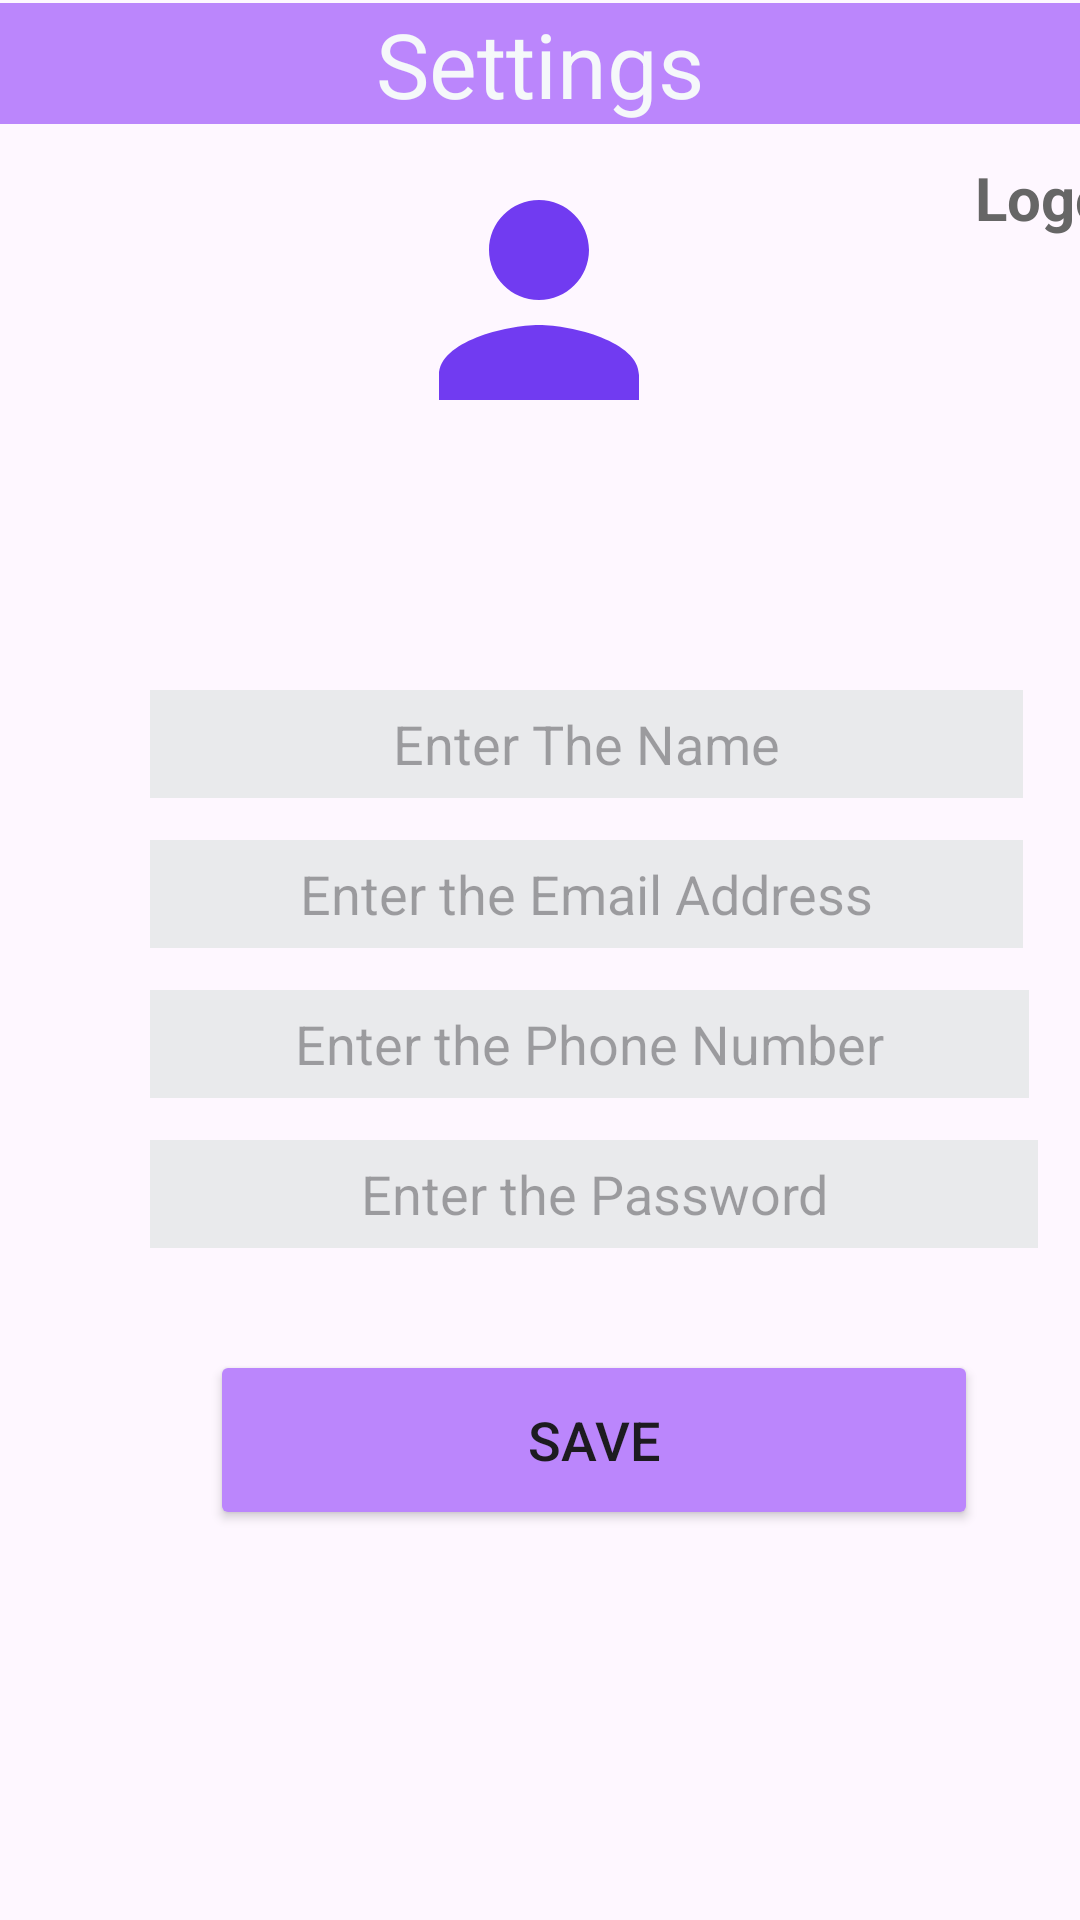

Named icons in this screenshot (1080w x 1920h) and their centers, (x,y):
person: (539,300)
